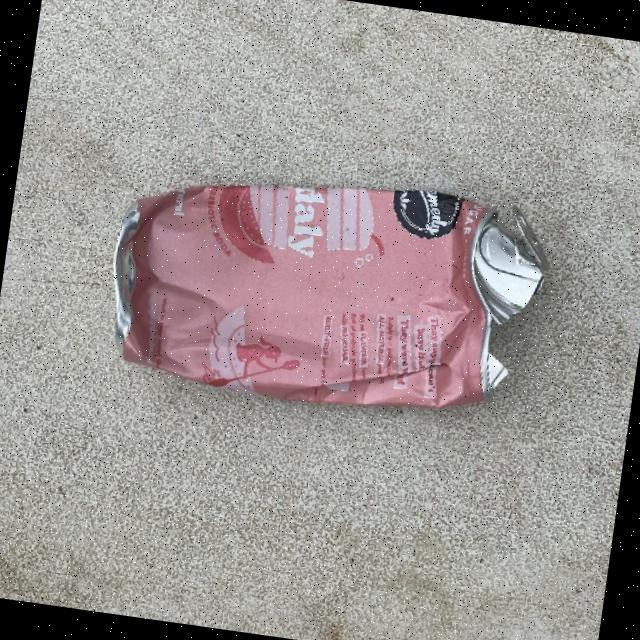metal: (97, 146, 556, 435)
